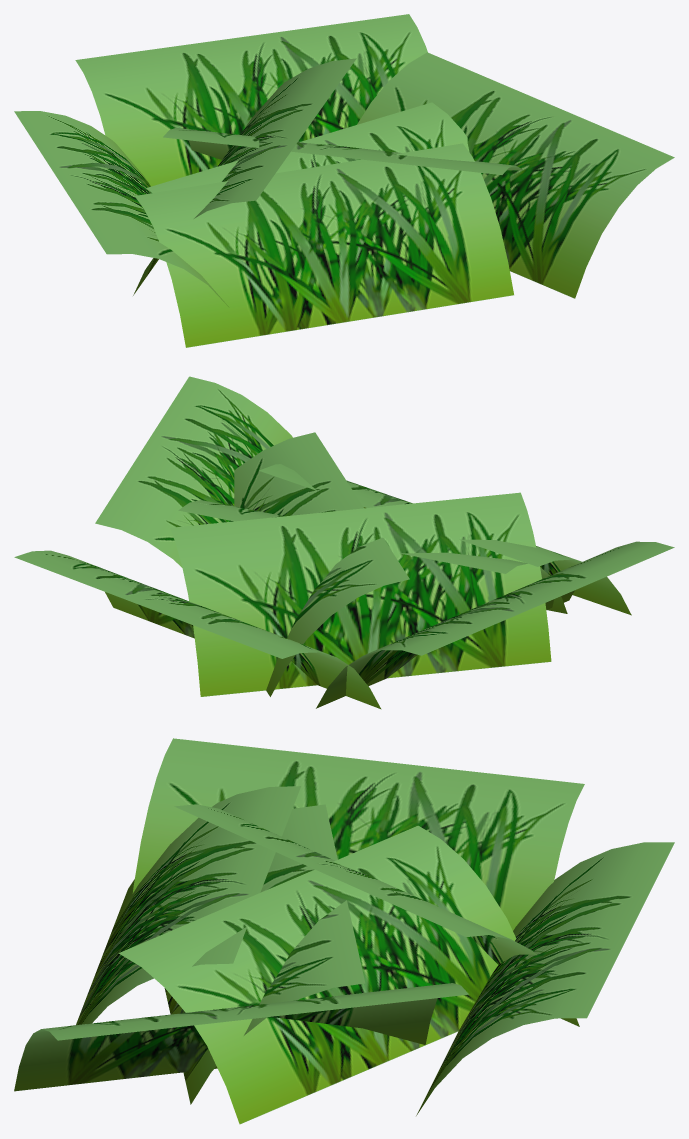
File: sb_obj_nature002_Grass01c.fbx
The picture shows the model from 3 angles, top to bottom: view 1: azimuth 30°, elevation 25°; view 2: azimuth 150°, elevation 25°; view 3: azimuth 270°, elevation 25°; orthographic projection. The views are drawn at different scales.
Visible parts, largest first — view 1: sb_obj_nature002_Grass01c; view 2: sb_obj_nature002_Grass01c; view 3: sb_obj_nature002_Grass01c.
Part boxes in pixels (box(x1,y1,x2,y2)): sb_obj_nature002_Grass01c: box(14, 14, 674, 347); sb_obj_nature002_Grass01c: box(14, 376, 674, 709); sb_obj_nature002_Grass01c: box(14, 738, 674, 1124).
Size of the model in its own units: 1.71 by 0.3658 by 1.55.
